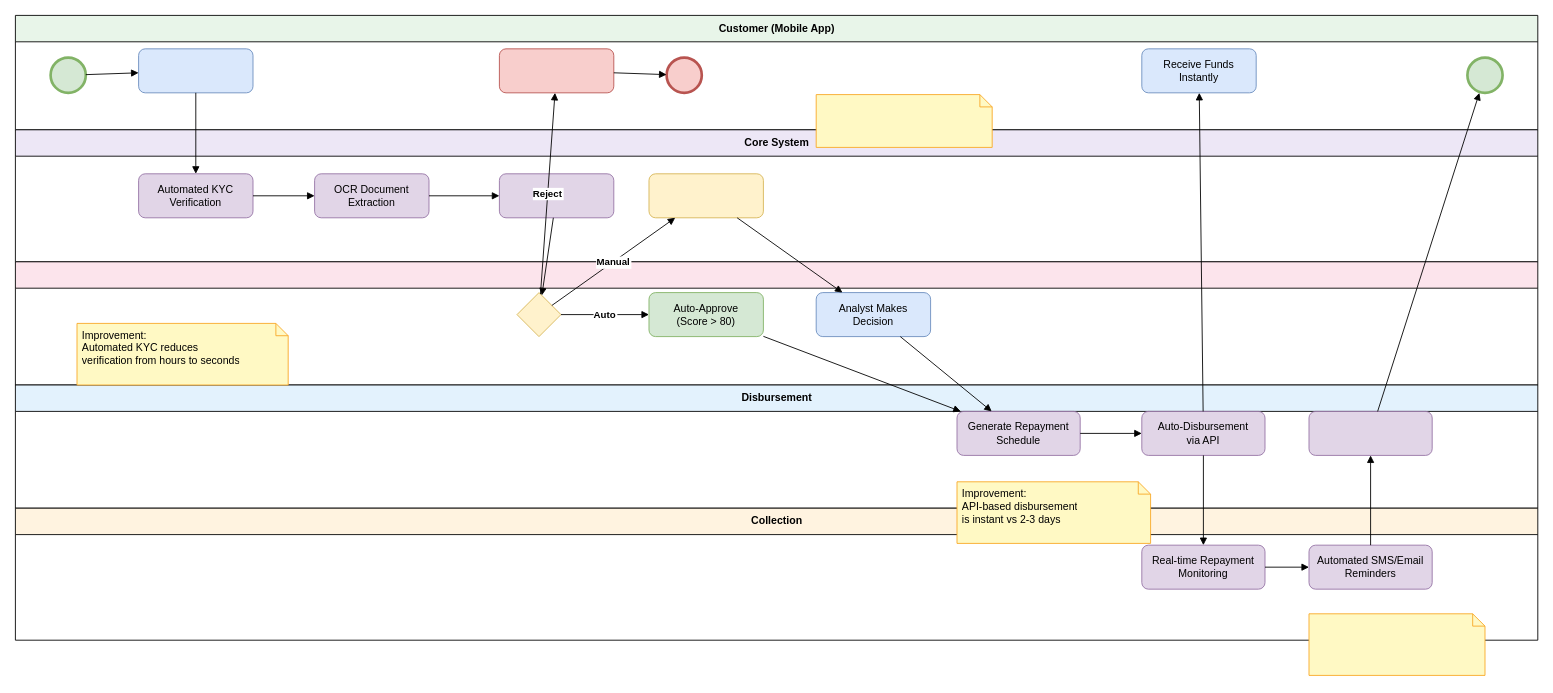
The diagram is 1553 pixels wide and 693 high, and some of its shapes have lost their labels. The shapes that lost their labels are listed below. From the top down, each one's box as (x1, y1, x2, y2) in pixels, then its label:
(138, 48, 253, 93): Submit Online Application
(499, 48, 614, 93): Send Rejection Notification
(815, 94, 992, 147): Improvement: Real-time tracking via customer portal
(499, 173, 614, 218): Automated Credit Scoring
(648, 173, 763, 218): Manual Review Required
(15, 261, 1538, 385): Underwriting
(1308, 411, 1432, 455): Auto-Escalation for Overdue
(1308, 613, 1485, 675): Improvement: Automated reminders reduce overdue rate by 40%
